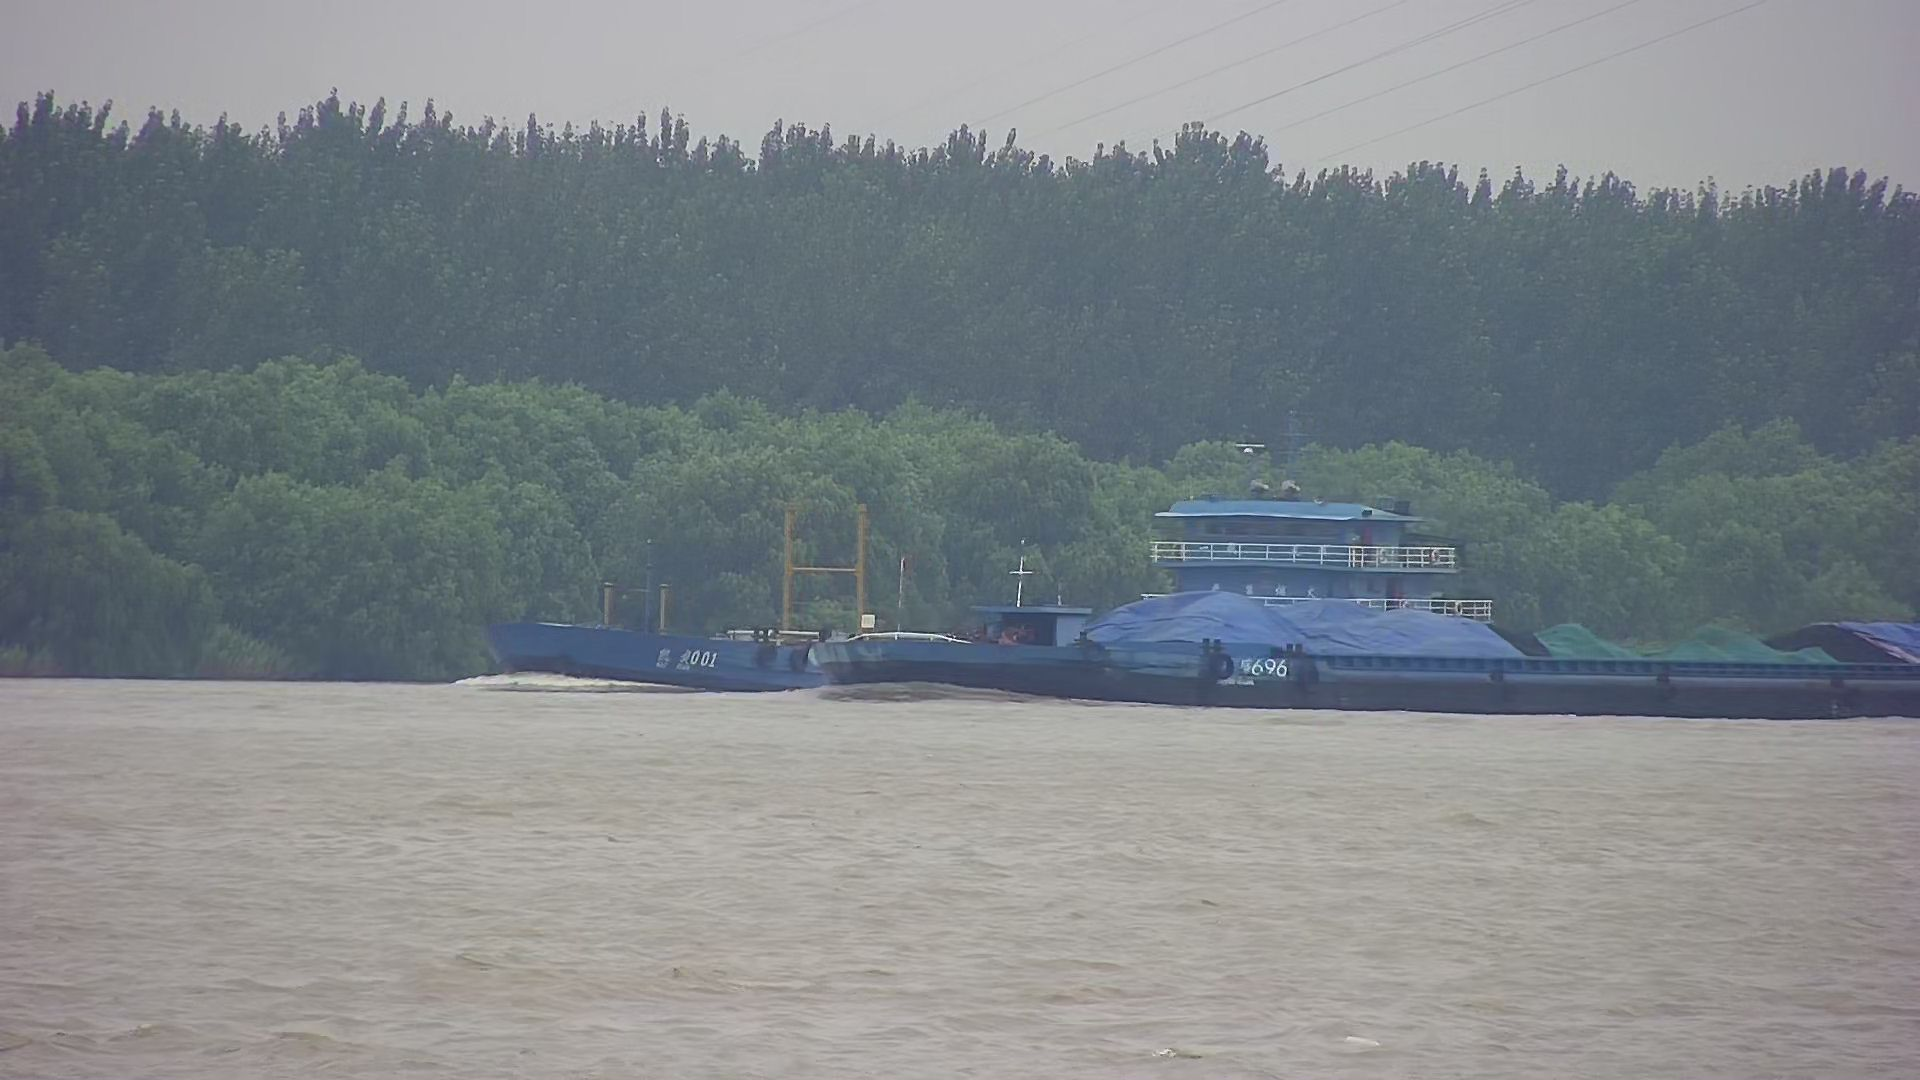ship: (465, 473, 1510, 704), (800, 560, 1920, 735)
